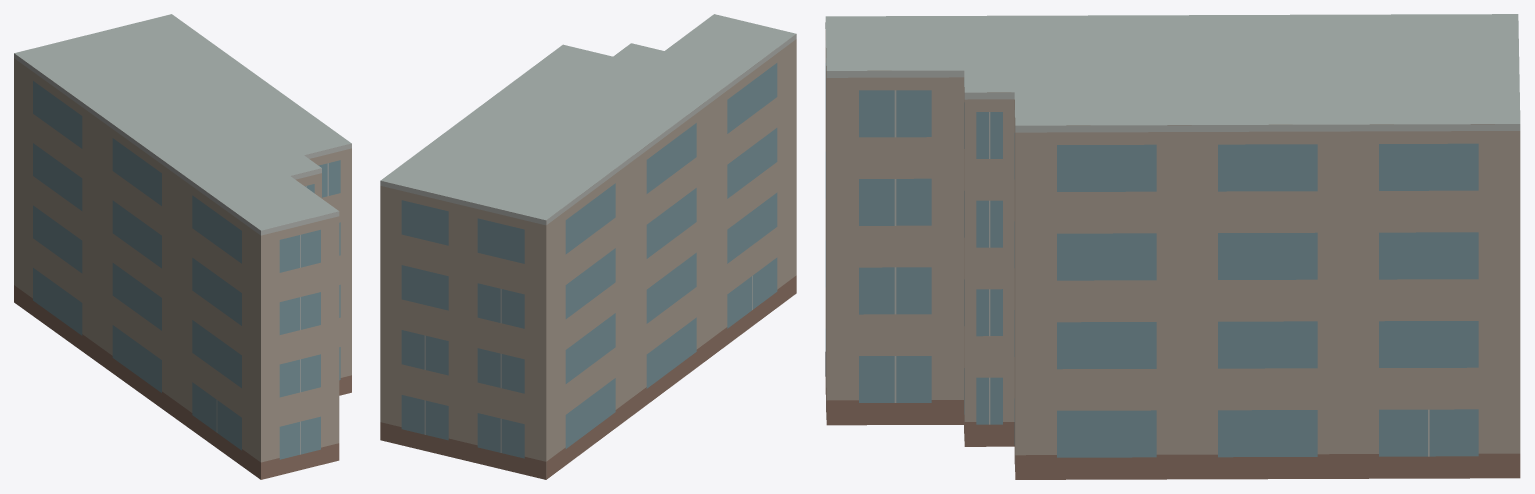
Rendered from survey-upis-32762533.glb.
3 renders of one model, left to right at view 1: azimuth 30°, elevation 25°; view 2: azimuth 150°, elevation 25°; view 3: azimuth 270°, elevation 25°, orthographic. The views are drawn at different scales.
Visible parts, largest first — view 1: survey-upis-32762533.tmp; view 2: survey-upis-32762533.tmp; view 3: survey-upis-32762533.tmp.
Part boxes in pixels (x1,y1,x2,y2): survey-upis-32762533.tmp: [14, 14, 351, 479]; survey-upis-32762533.tmp: [380, 14, 796, 479]; survey-upis-32762533.tmp: [825, 14, 1520, 479].
Bounding box in the file's own units: 8.39 × 12.4 × 22.06.
